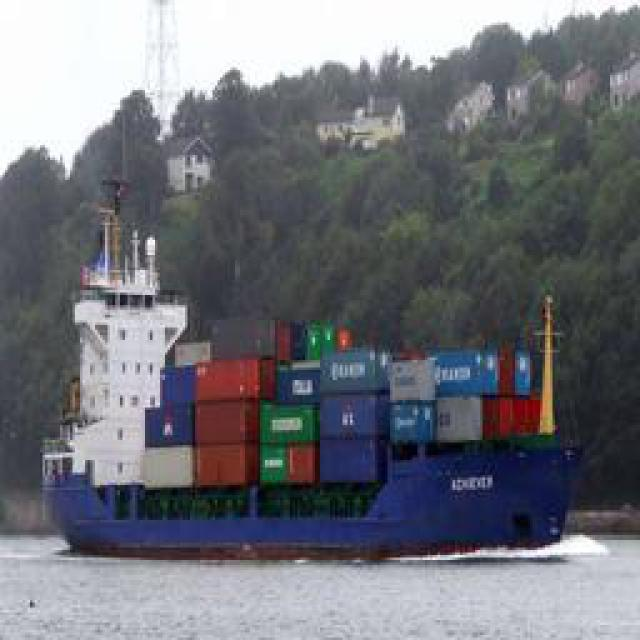Ship: (41, 216, 574, 565)
